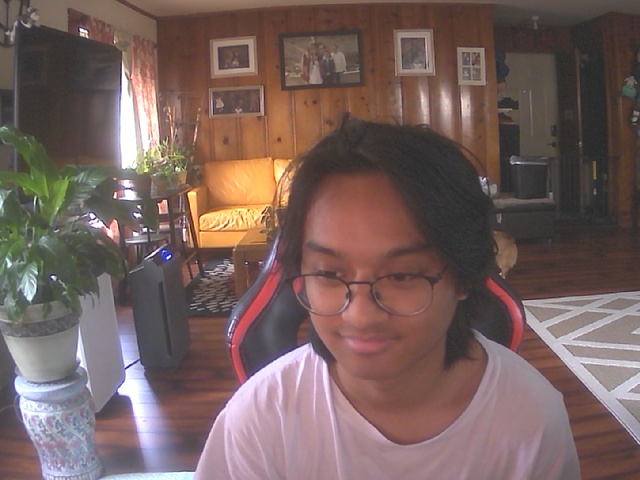happy: (277, 141, 480, 391)
